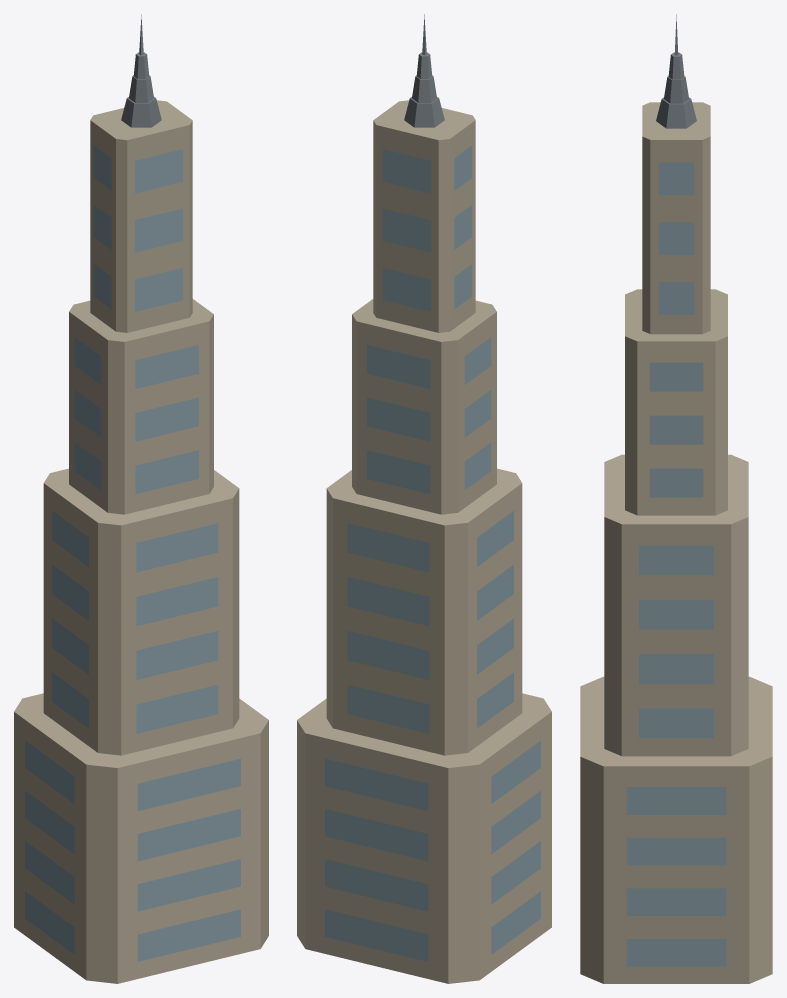
The picture shows the model from 3 angles, left to right: view 1: azimuth 30°, elevation 25°; view 2: azimuth 150°, elevation 25°; view 3: azimuth 270°, elevation 25°; orthographic projection.
Parts seen in each view (by area): view 1: deco-spire-lod3; view 2: deco-spire-lod3; view 3: deco-spire-lod3.
Boxes of the visible parts, x1=… form: deco-spire-lod3: x1=14, y1=14, x2=268, y2=983; deco-spire-lod3: x1=297, y1=14, x2=551, y2=983; deco-spire-lod3: x1=580, y1=14, x2=772, y2=983.
Size of the model in its own units: 74.69 by 357 by 67.49.
